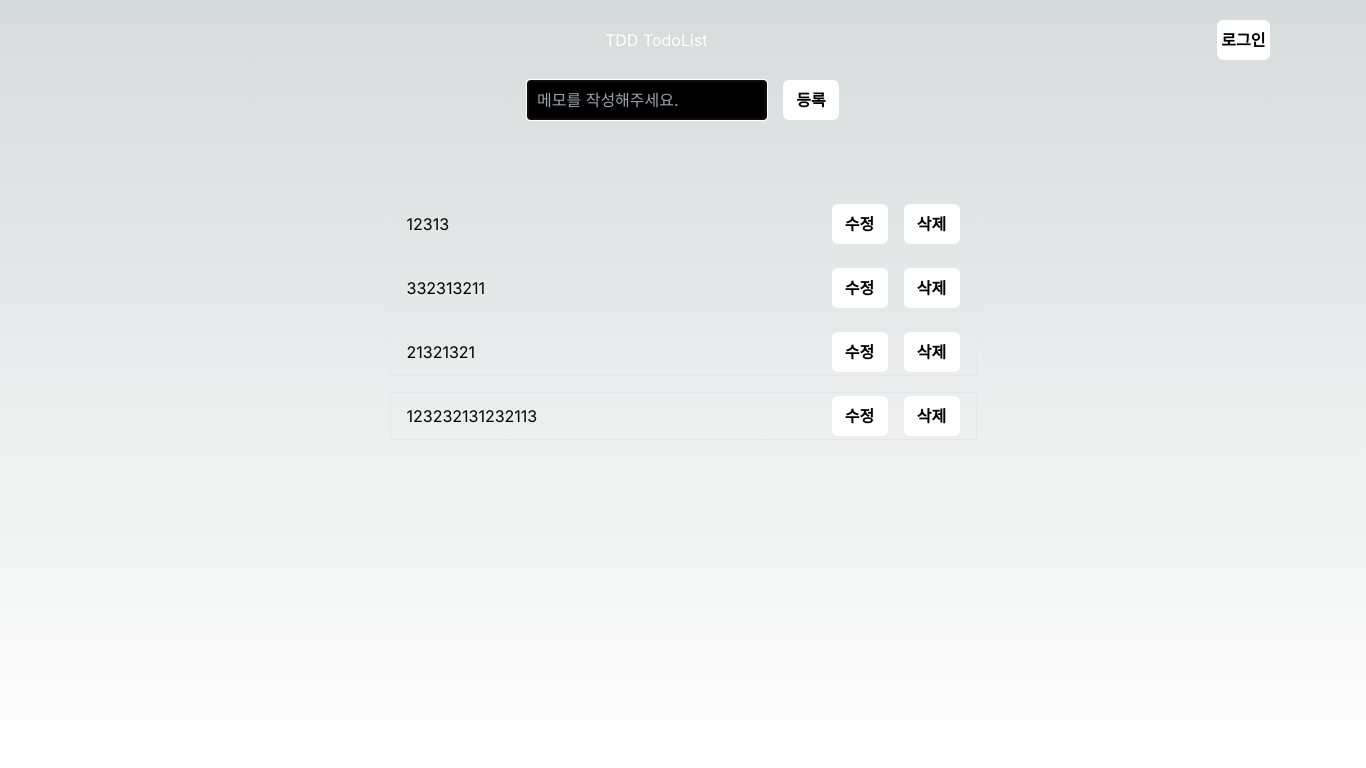
Scenario: Home › todo 항목을 삭제한다.
// 첫 번째 '삭제' 버튼 클릭
Click the button "삭제" in the row of "12313".
click(932, 224)  # box [904, 204, 960, 244]
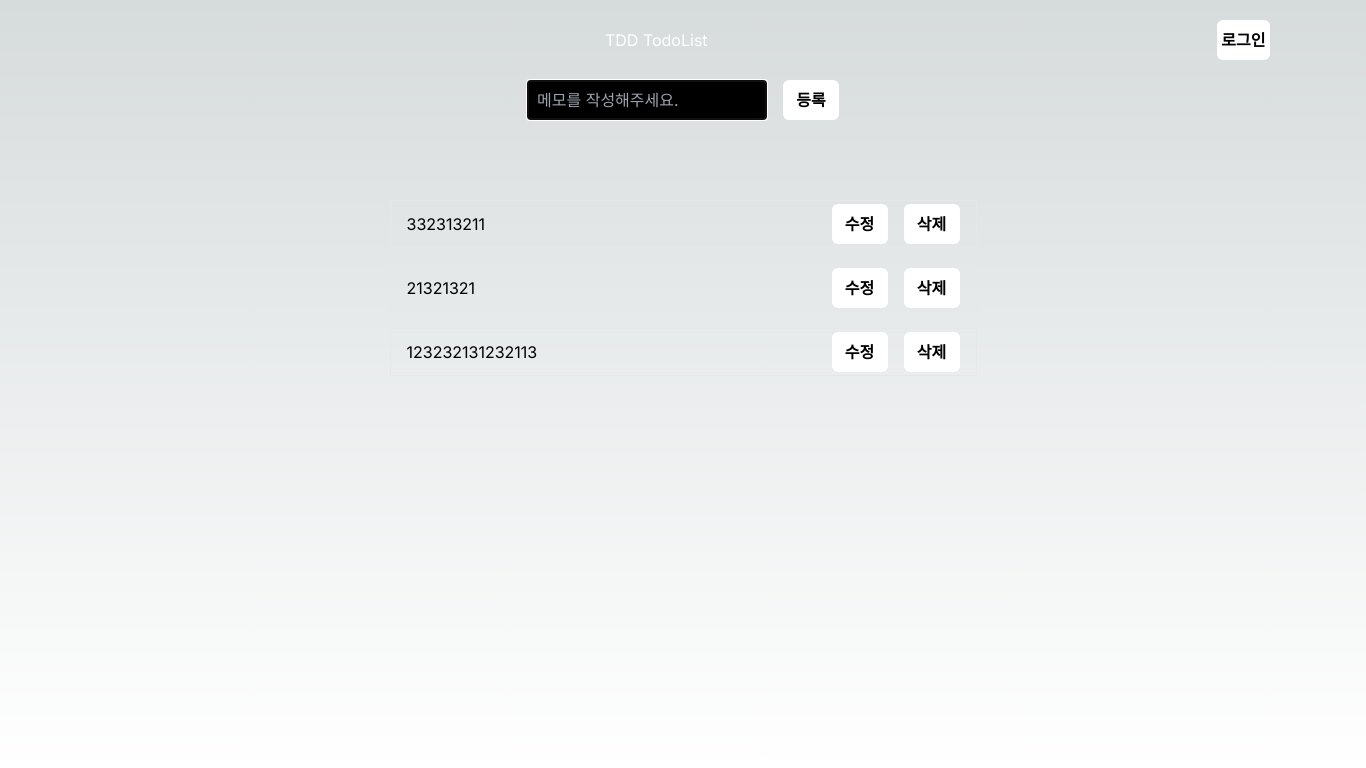
Expected: the number of buttons "삭제" is 3, [904, 204, 960, 244]; [904, 268, 960, 308]; [904, 332, 960, 372]
